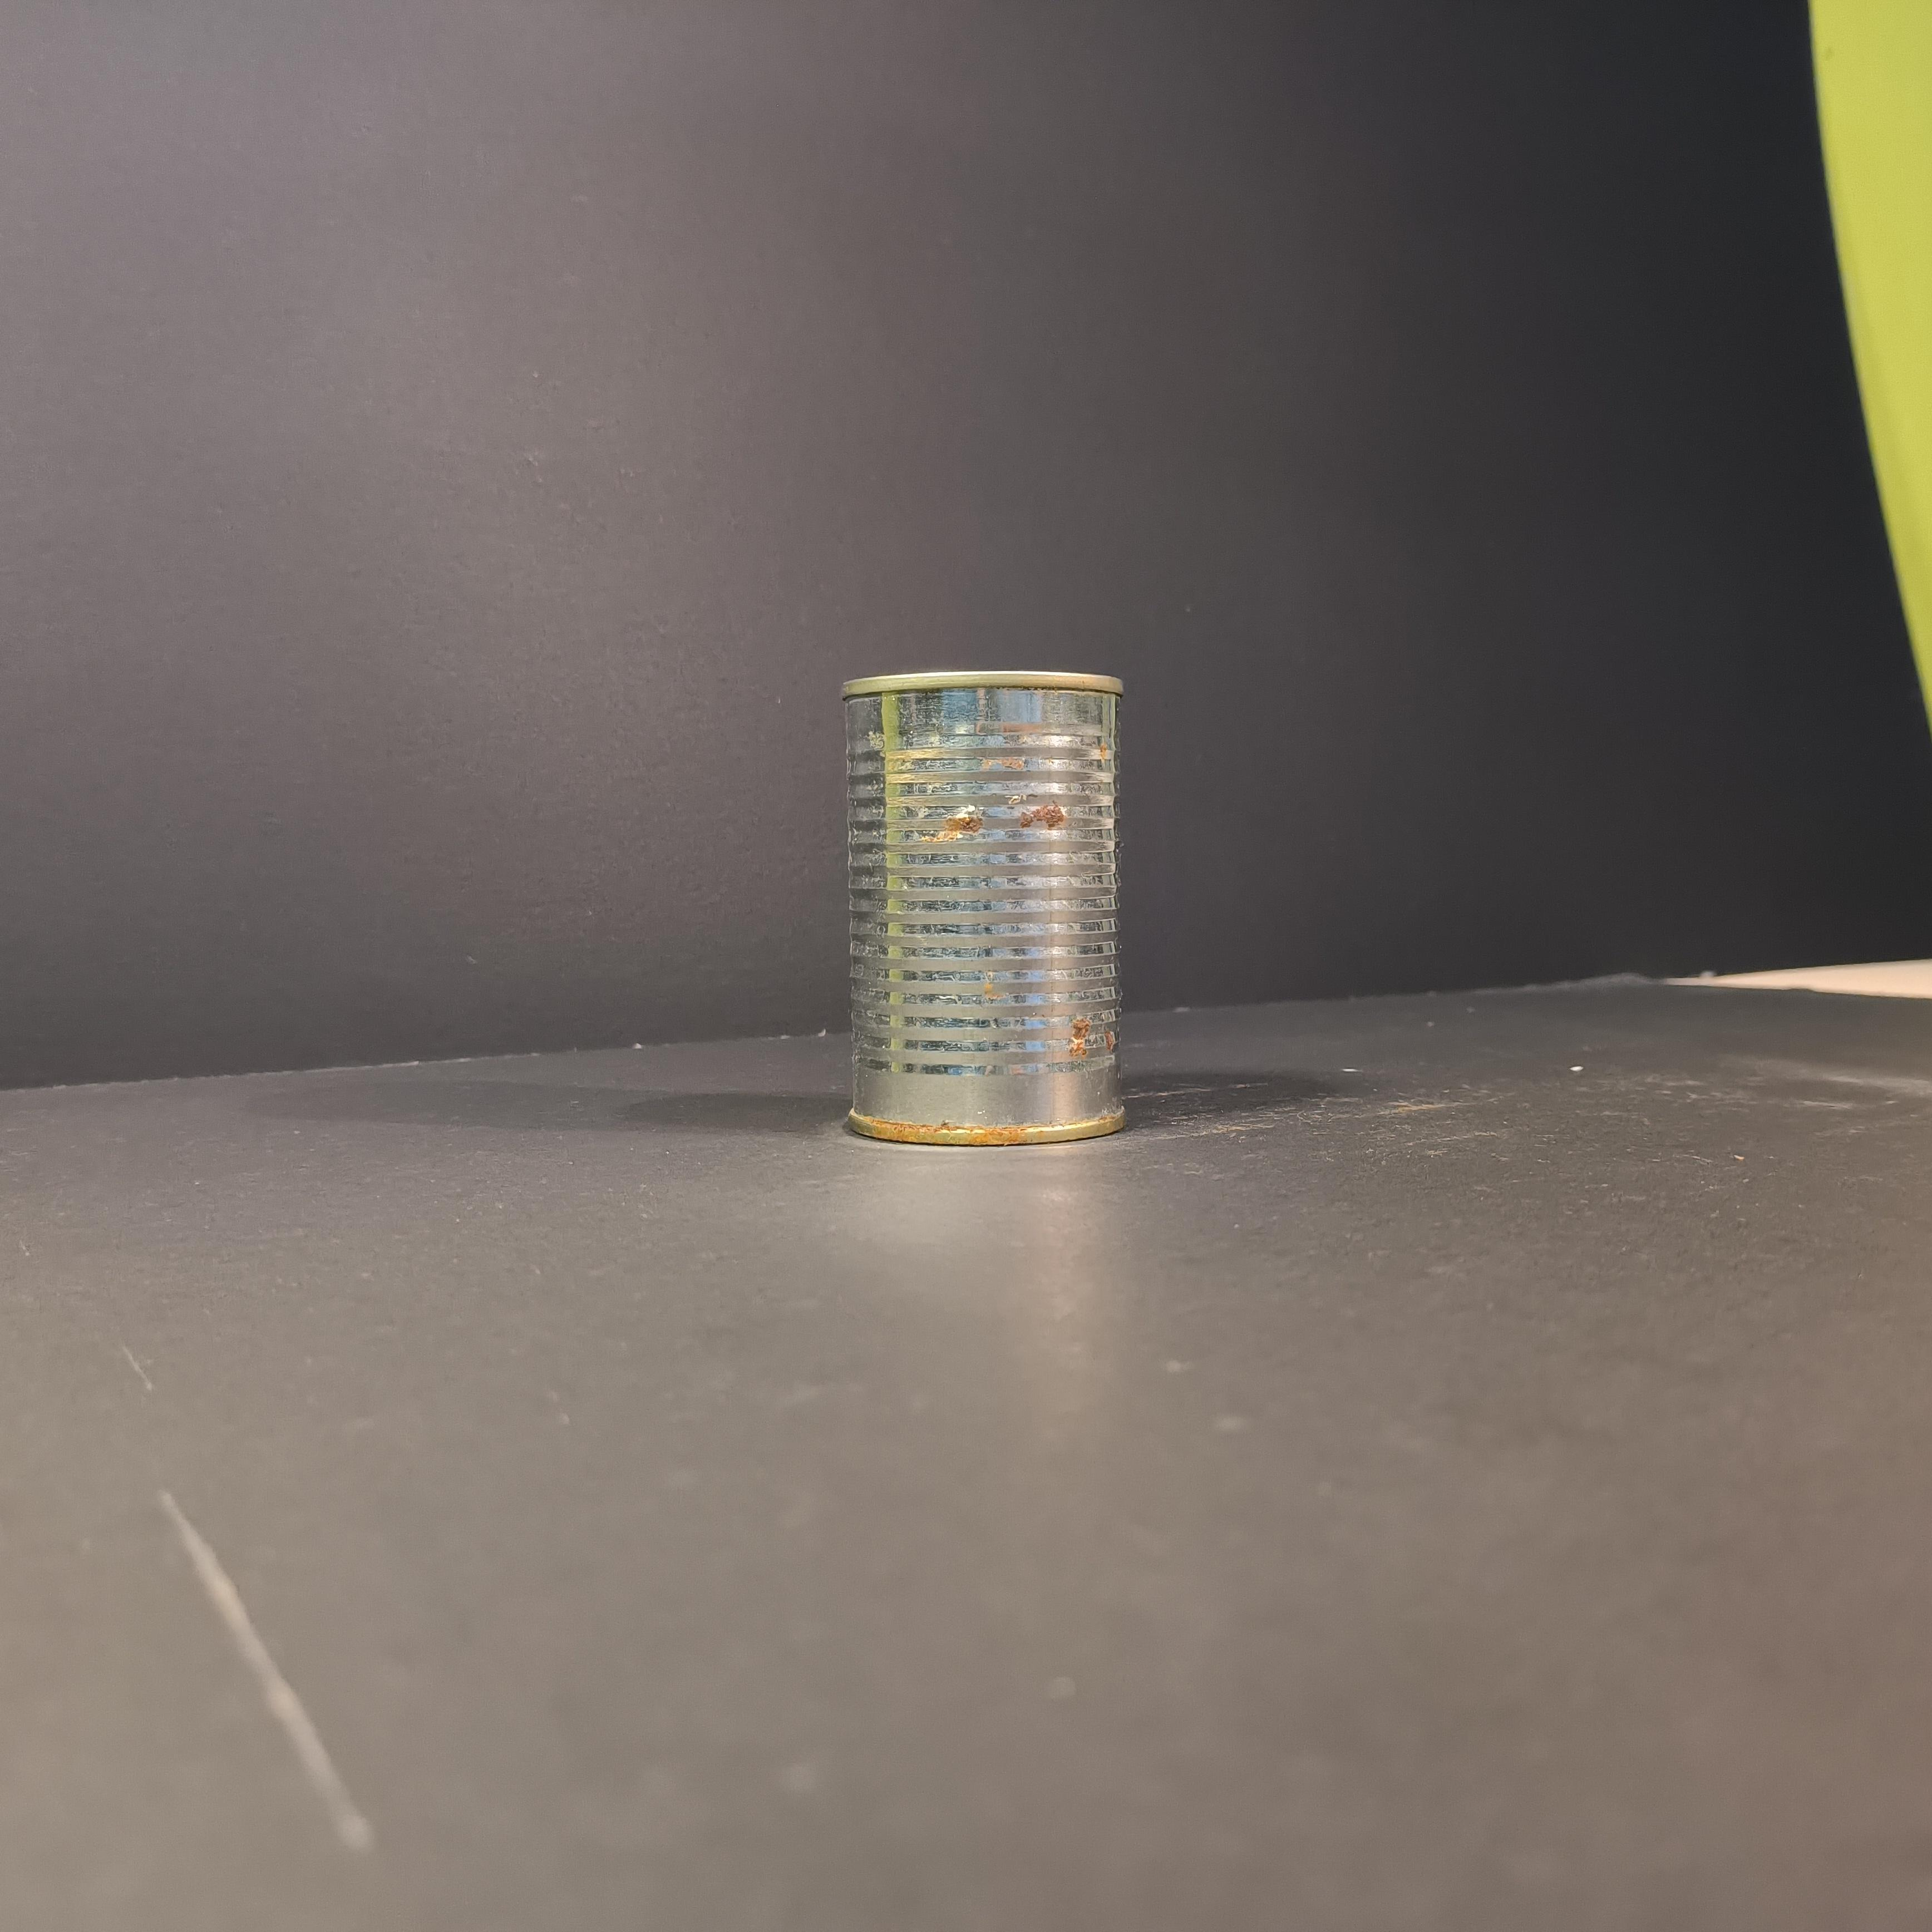Rusted: (823, 656, 1148, 1148)
